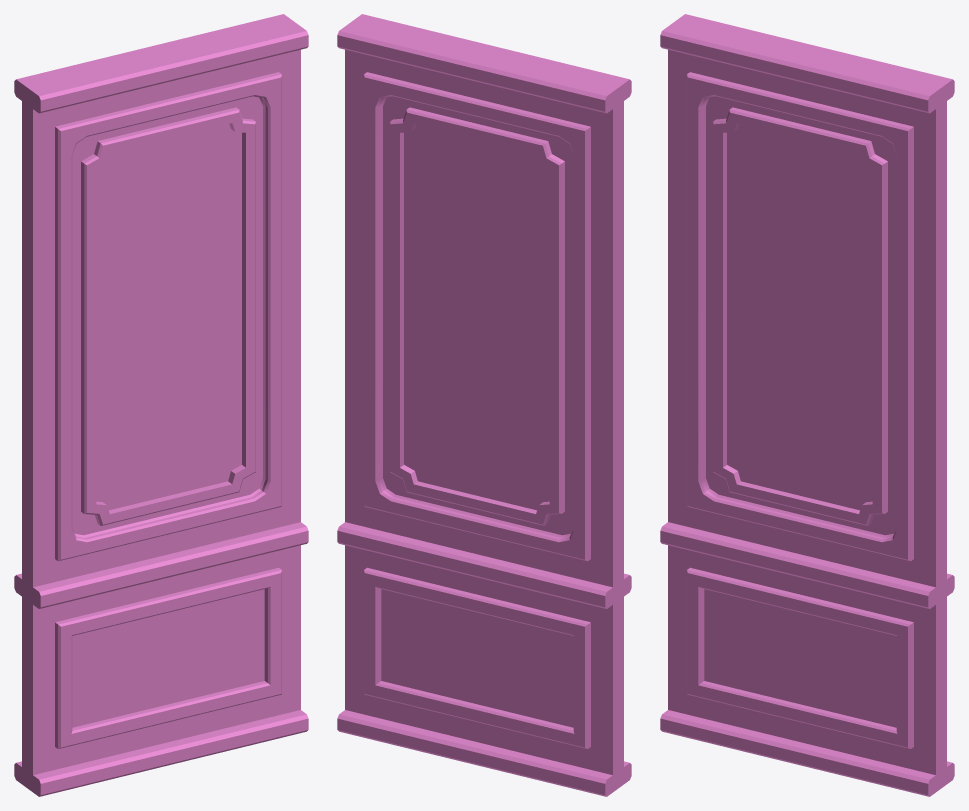
The model's file is ENV_HAU_WALLDOUBLE_MODEL.fbx.
3 renders of one model, left to right at view 1: azimuth 30°, elevation 25°; view 2: azimuth 150°, elevation 25°; view 3: azimuth 330°, elevation 25°, orthographic.
Visible parts, largest first — view 1: ENV_HAU_WALDOUBLE_MODEL; view 2: ENV_HAU_WALDOUBLE_MODEL; view 3: ENV_HAU_WALDOUBLE_MODEL.
Boxes of the visible parts, x1,y1,x2,y2 form: ENV_HAU_WALDOUBLE_MODEL: [14, 14, 308, 796]; ENV_HAU_WALDOUBLE_MODEL: [337, 14, 631, 796]; ENV_HAU_WALDOUBLE_MODEL: [660, 14, 954, 796].
Bounding box in the file's own units: 100 × 250 × 17.08.
